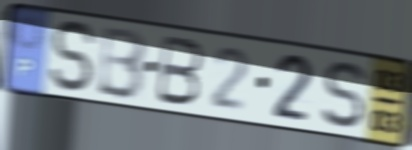2: (269, 52, 316, 125), (208, 45, 254, 114)
B: (94, 24, 149, 103), (153, 32, 206, 109)
S: (48, 18, 102, 96), (319, 59, 369, 132)
